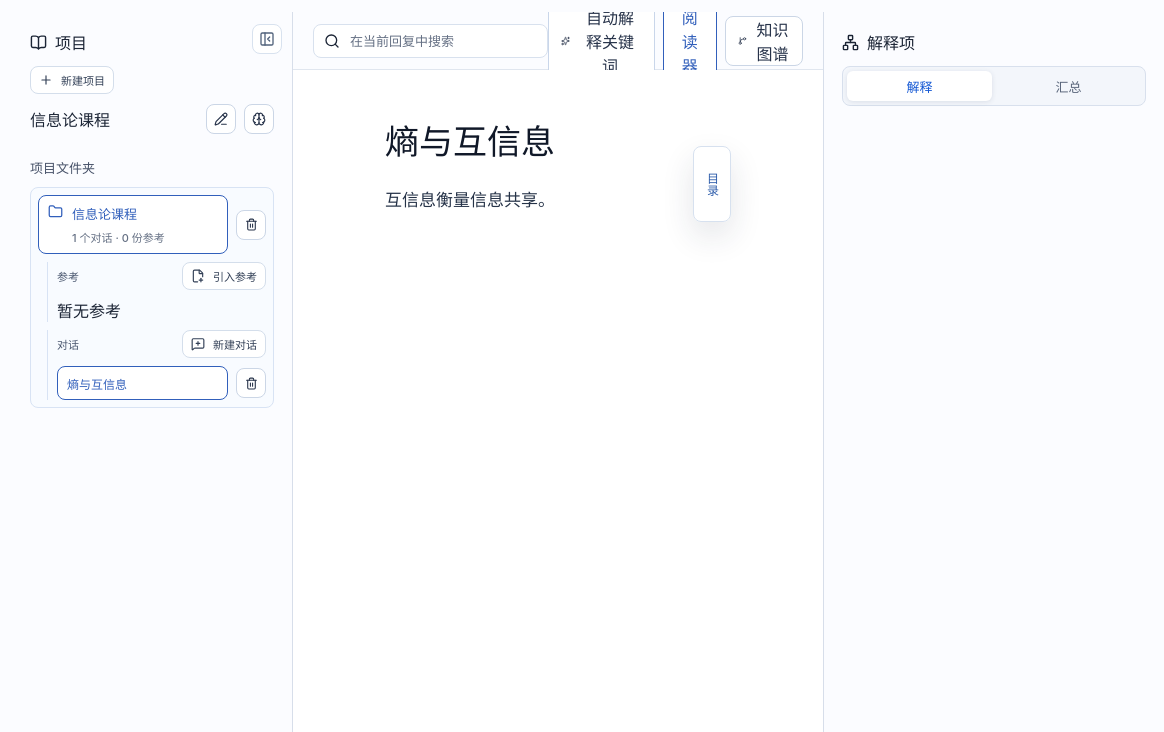
it: WorkspaceView › collapses and restores the project sidebar to give the reader more space
This screenshot has width=1164, height=732.
Expected: the element named "项目目录" is shown, [12,12,292,731]
Click the button named "收起项目目录": (267, 39) [252,24,282,54]
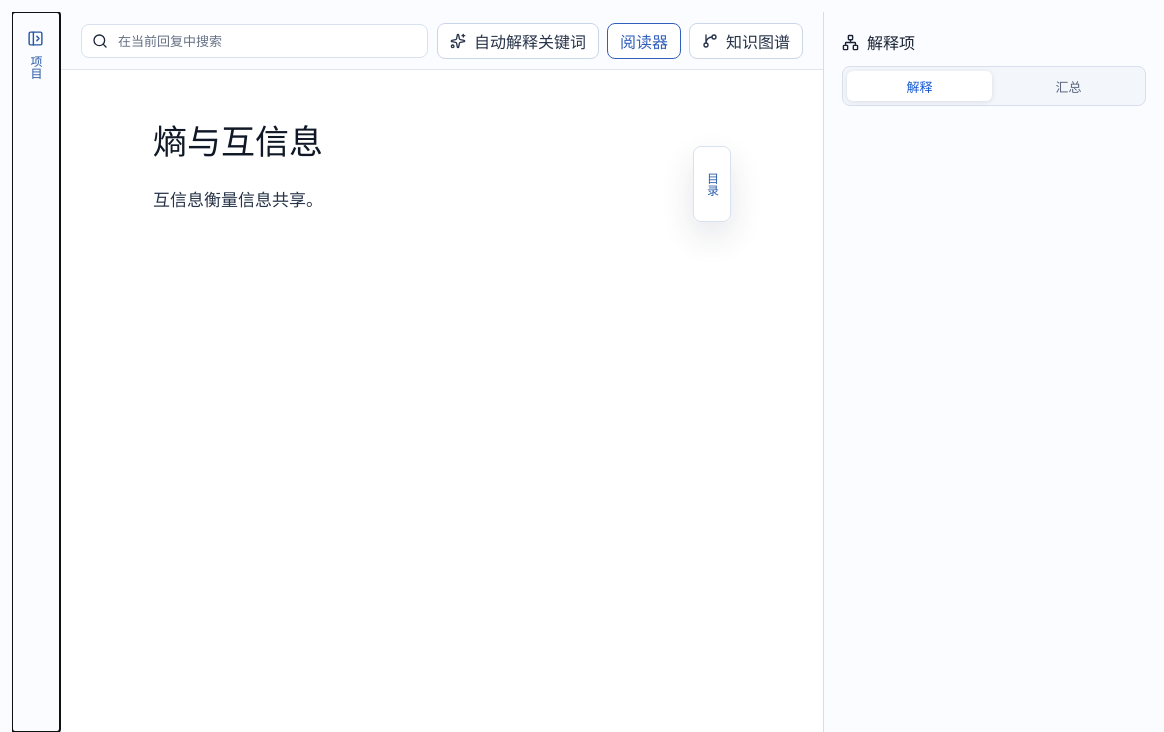
Expected: the element "项目目录" is gone
Click the button with aria-label "展开项目目录": (36, 372) [12,12,60,731]
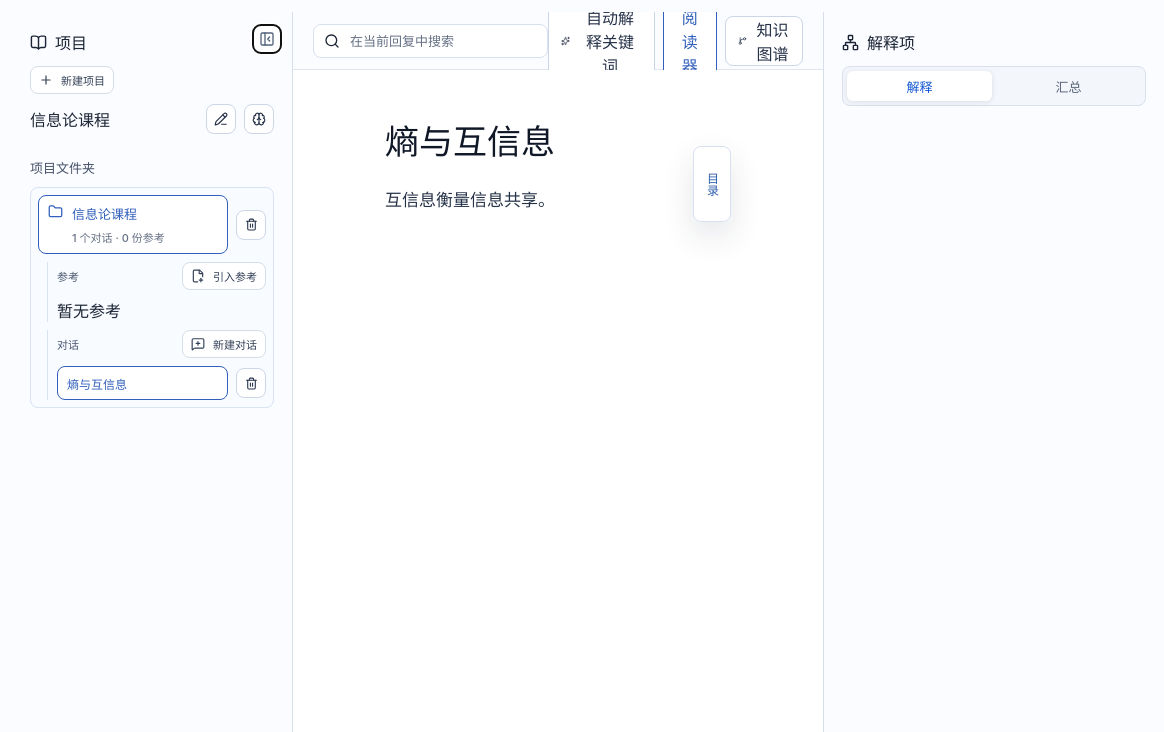
Expected: the element named "项目目录" is shown, [12,12,292,731]
